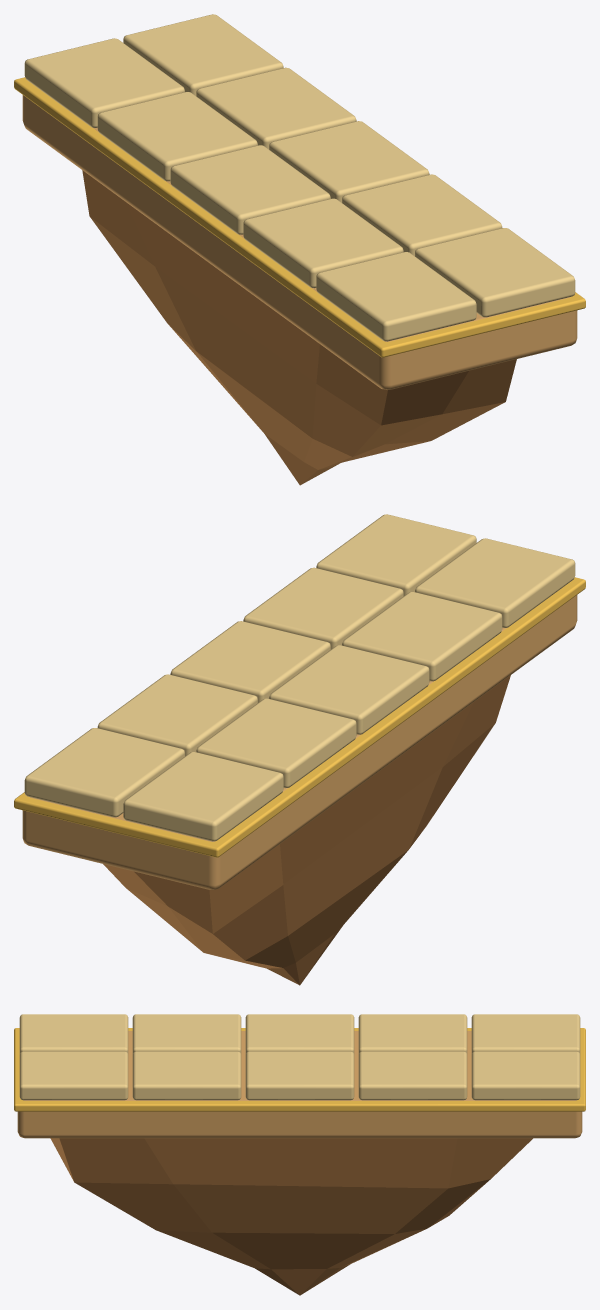
Rendered from PLAT_Ruin_Strip.glb.
The picture shows the model from 3 angles, top to bottom: view 1: azimuth 30°, elevation 25°; view 2: azimuth 150°, elevation 25°; view 3: azimuth 270°, elevation 25°; orthographic projection. The views are drawn at different scales.
Parts seen in each view (by area): view 1: Tiles, Underside, Slab, Trim; view 2: Tiles, Underside, Slab, Trim; view 3: Tiles, Underside, Slab, Trim.
Boxes of the visible parts, box(x1,y1,x2,y2) form: Tiles: box(24, 14, 575, 341); Underside: box(82, 170, 516, 485); Slab: box(22, 95, 577, 389); Trim: box(14, 77, 585, 357); Tiles: box(24, 514, 575, 841); Underside: box(103, 675, 510, 985); Slab: box(22, 595, 577, 889); Trim: box(14, 577, 585, 857); Tiles: box(19, 1014, 580, 1100); Underside: box(50, 1138, 532, 1295); Slab: box(17, 1031, 582, 1138); Trim: box(14, 1028, 585, 1111).
Size of the model in its own units: 2.6 by 3.85 by 8.1.
